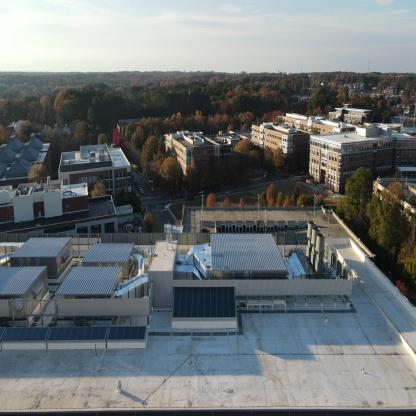Fitts- Woolard: (1, 233, 410, 409)
